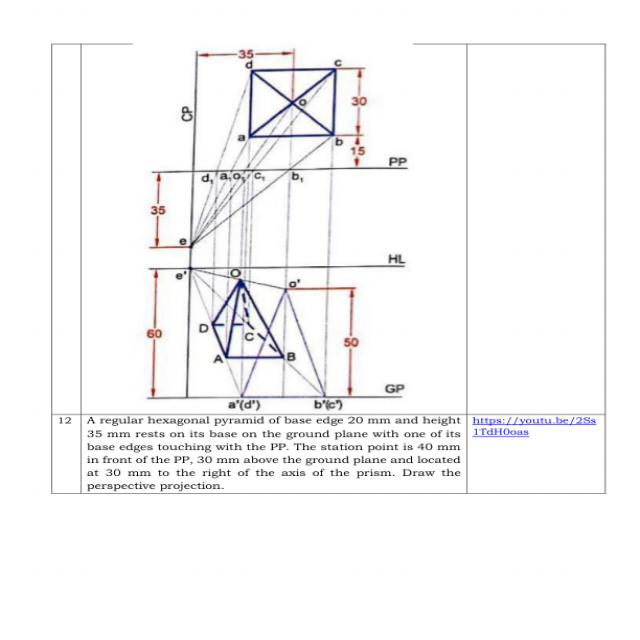Drawings: (133, 46, 423, 411)
